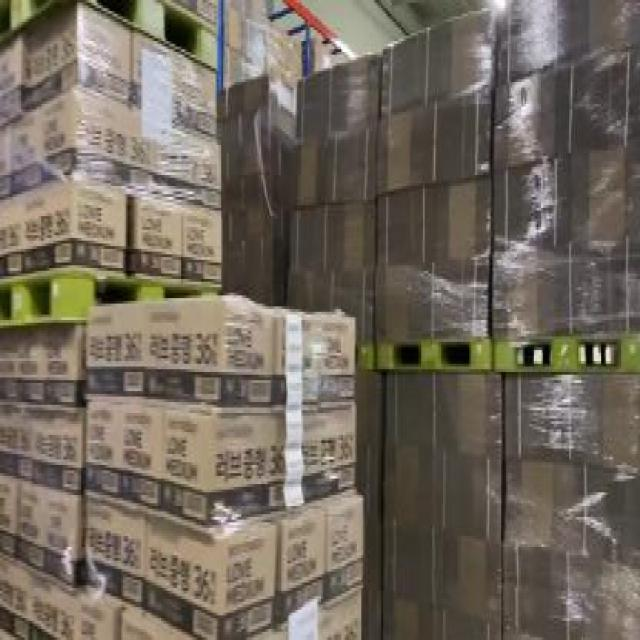box: (244, 5, 638, 638), (0, 5, 366, 638)
